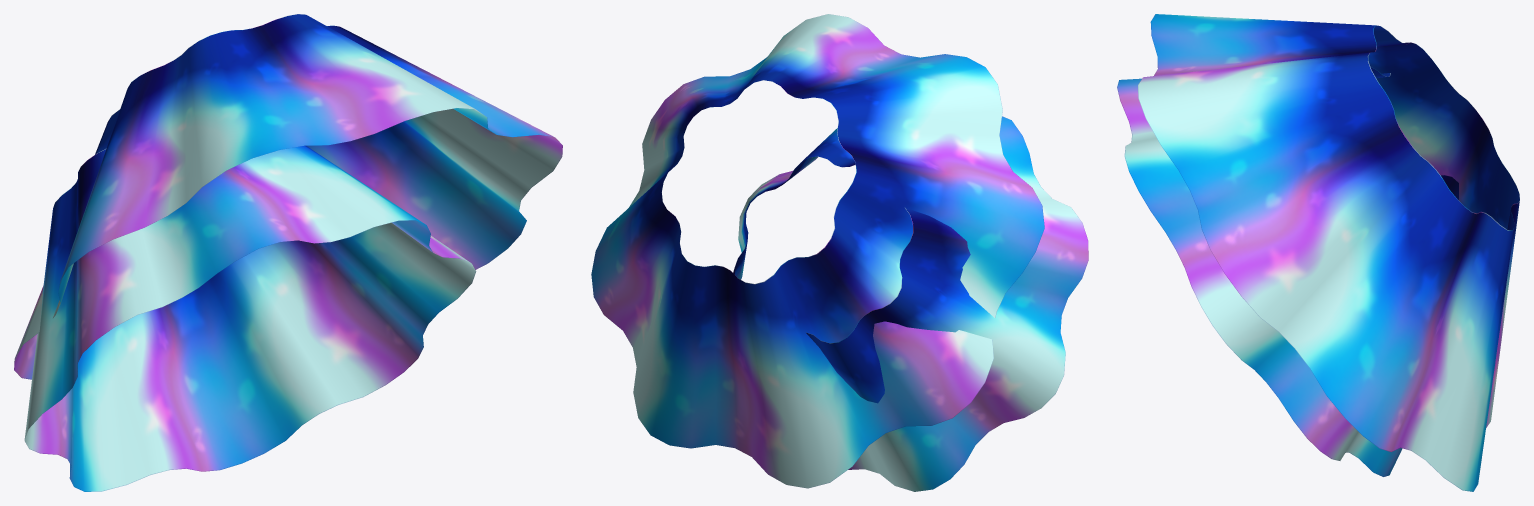
File: colors.obj
3 views of the same model, side by side, from view 1: azimuth 30°, elevation 25°; view 2: azimuth 150°, elevation 25°; view 3: azimuth 270°, elevation 25° (orthographic). The views are drawn at different scales.
Visible parts, largest first — view 1: d7d6dff1_dds; view 2: d7d6dff1_dds; view 3: d7d6dff1_dds.
Boxes of the visible parts, <box> form: d7d6dff1_dds: <box>14,14,562,491</box>; d7d6dff1_dds: <box>591,14,1088,491</box>; d7d6dff1_dds: <box>1117,14,1519,491</box>.
Size of the model in its own units: 13.47 by 11.03 by 9.19.
